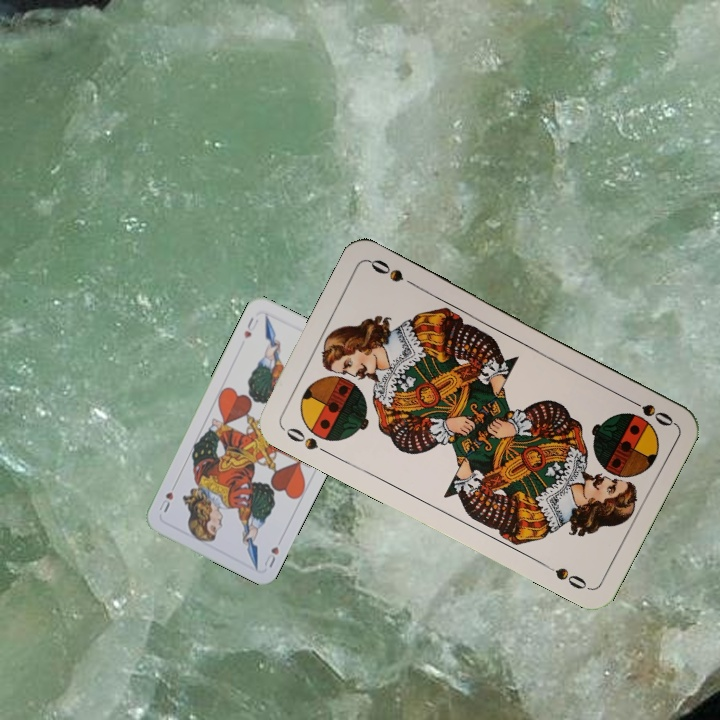HU: (260, 542, 282, 570), (240, 313, 261, 341)
SO: (621, 393, 676, 429), (278, 423, 333, 458)
